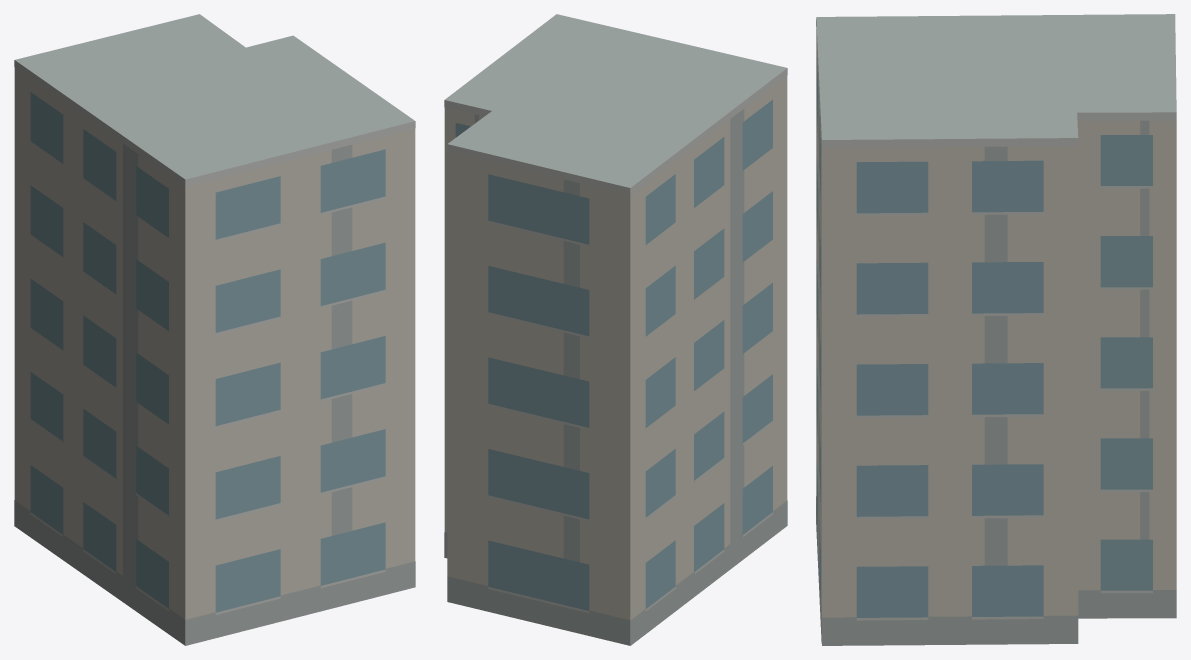
Rendered from survey-upis-33023819.glb.
3 views of the same model, side by side, from view 1: azimuth 30°, elevation 25°; view 2: azimuth 150°, elevation 25°; view 3: azimuth 270°, elevation 25° (orthographic). The views are drawn at different scales.
Visible parts, largest first — view 1: survey-upis-33023819.tmp; view 2: survey-upis-33023819.tmp; view 3: survey-upis-33023819.tmp.
Part boxes in pixels (x1=…): survey-upis-33023819.tmp: x1=14, y1=14, x2=415, y2=645; survey-upis-33023819.tmp: x1=444, y1=14, x2=787, y2=645; survey-upis-33023819.tmp: x1=816, y1=14, x2=1176, y2=645.
Bounding box in the file's own units: 8.16 × 15.25 × 9.86.
